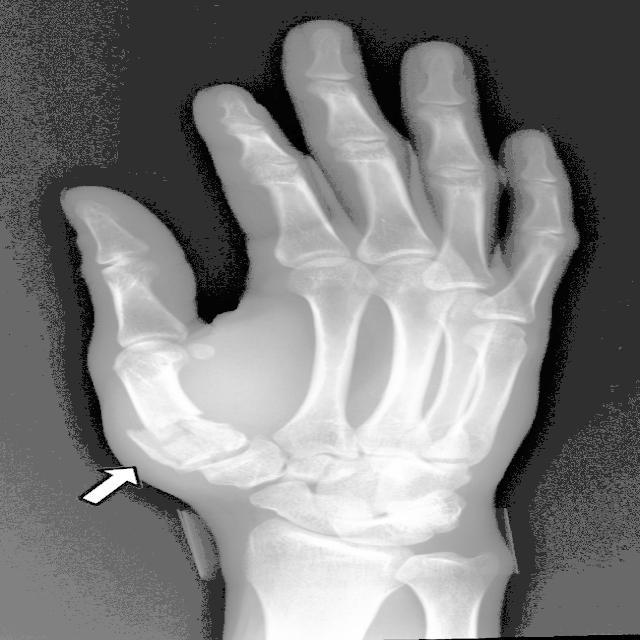Comminuted Fracture: (120, 416, 190, 481)
